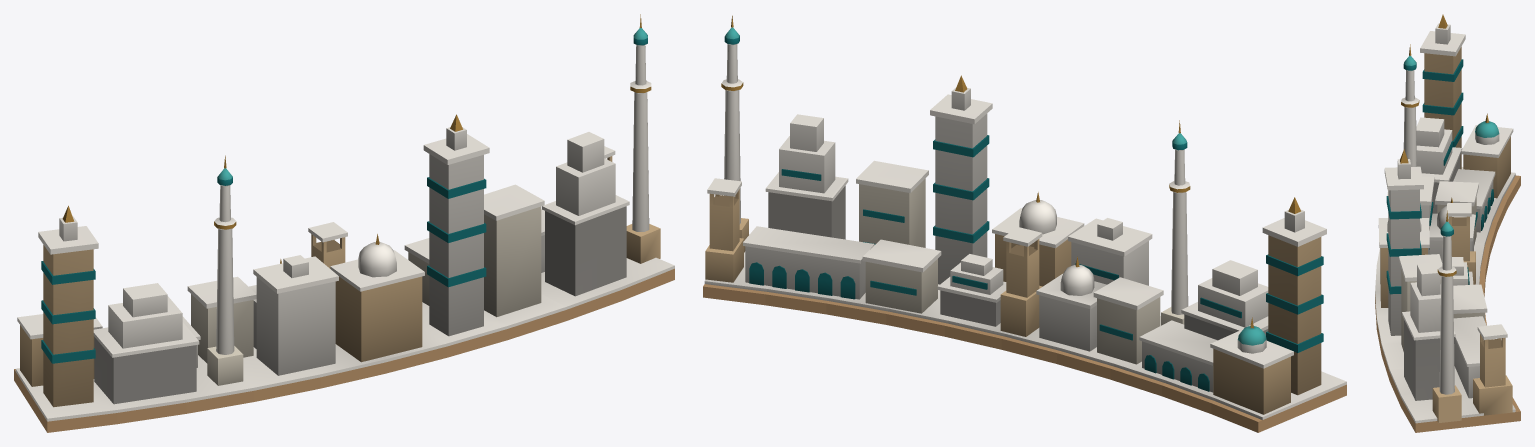
The model's file is skyline_ring_piece.fbx.
3 views of the same model, side by side, from view 1: azimuth 30°, elevation 25°; view 2: azimuth 150°, elevation 25°; view 3: azimuth 270°, elevation 25° (orthographic). The views are drawn at different scales.
Parts seen in each view (by area): view 1: skyline_ring_piece; view 2: skyline_ring_piece; view 3: skyline_ring_piece.
Boxes of the visible parts, bbox=[...] form: skyline_ring_piece: bbox=[14, 14, 674, 432]; skyline_ring_piece: bbox=[703, 15, 1346, 432]; skyline_ring_piece: bbox=[1375, 14, 1520, 432].
Bounding box in the file's own units: 174 × 67.97 × 41.43.
